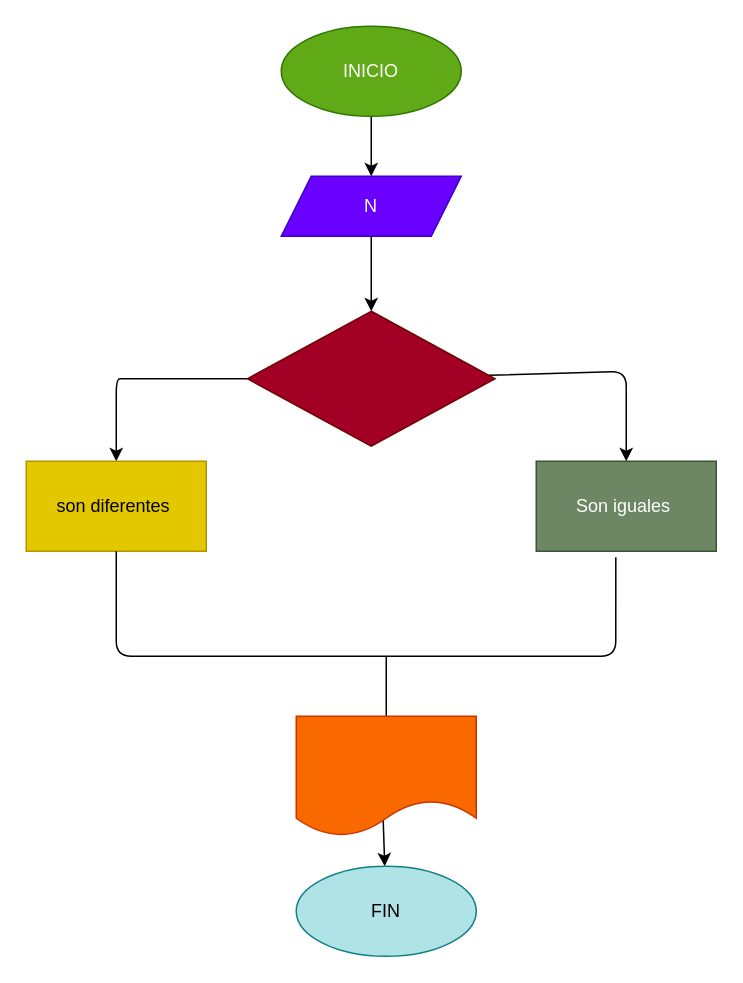
Image size: 743x983. Some labels were removed from this diagram. The box of each missing label's shape, as (x1, y1, x2, y2) in pixels:
dos ultimos digitos de un número son iguales o diferentes: (295, 715, 476, 836)
Ultimo_digito == penultimo_digito: (246, 310, 495, 446)
